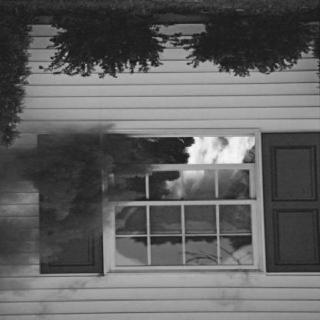Fire: (160, 136, 258, 202)
Smoke: (37, 137, 156, 230)
